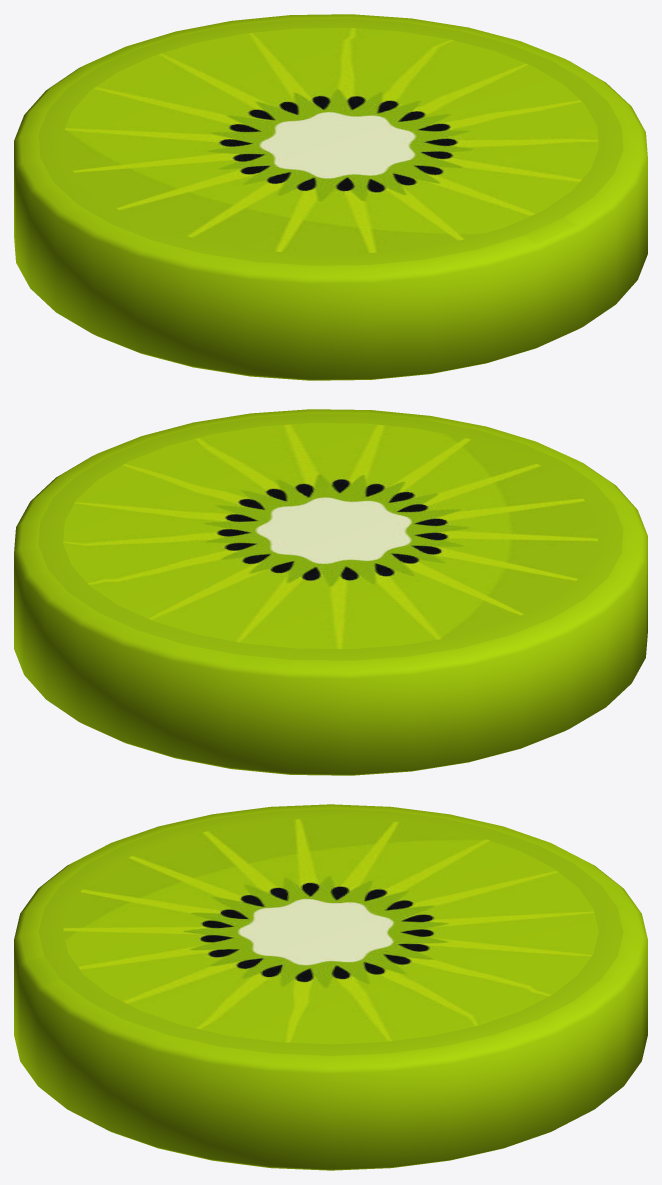
The model's file is green_kiwi.fbx.
3 views of the same model, one above another, from view 1: azimuth 30°, elevation 25°; view 2: azimuth 150°, elevation 25°; view 3: azimuth 270°, elevation 25° (orthographic).
Parts seen in each view (by area): view 1: kiwi; view 2: kiwi; view 3: kiwi.
Boxes of the visible parts, x1=… form: kiwi: x1=14, y1=14, x2=647, y2=380; kiwi: x1=14, y1=409, x2=647, y2=775; kiwi: x1=14, y1=804, x2=647, y2=1170.
Size of the model in its own units: 106 by 20.69 by 106.
